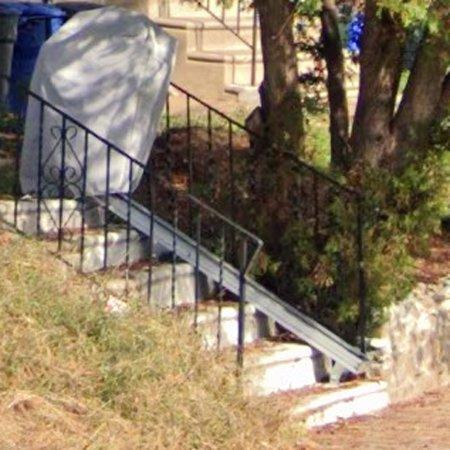stairs: (0, 93, 389, 430)
